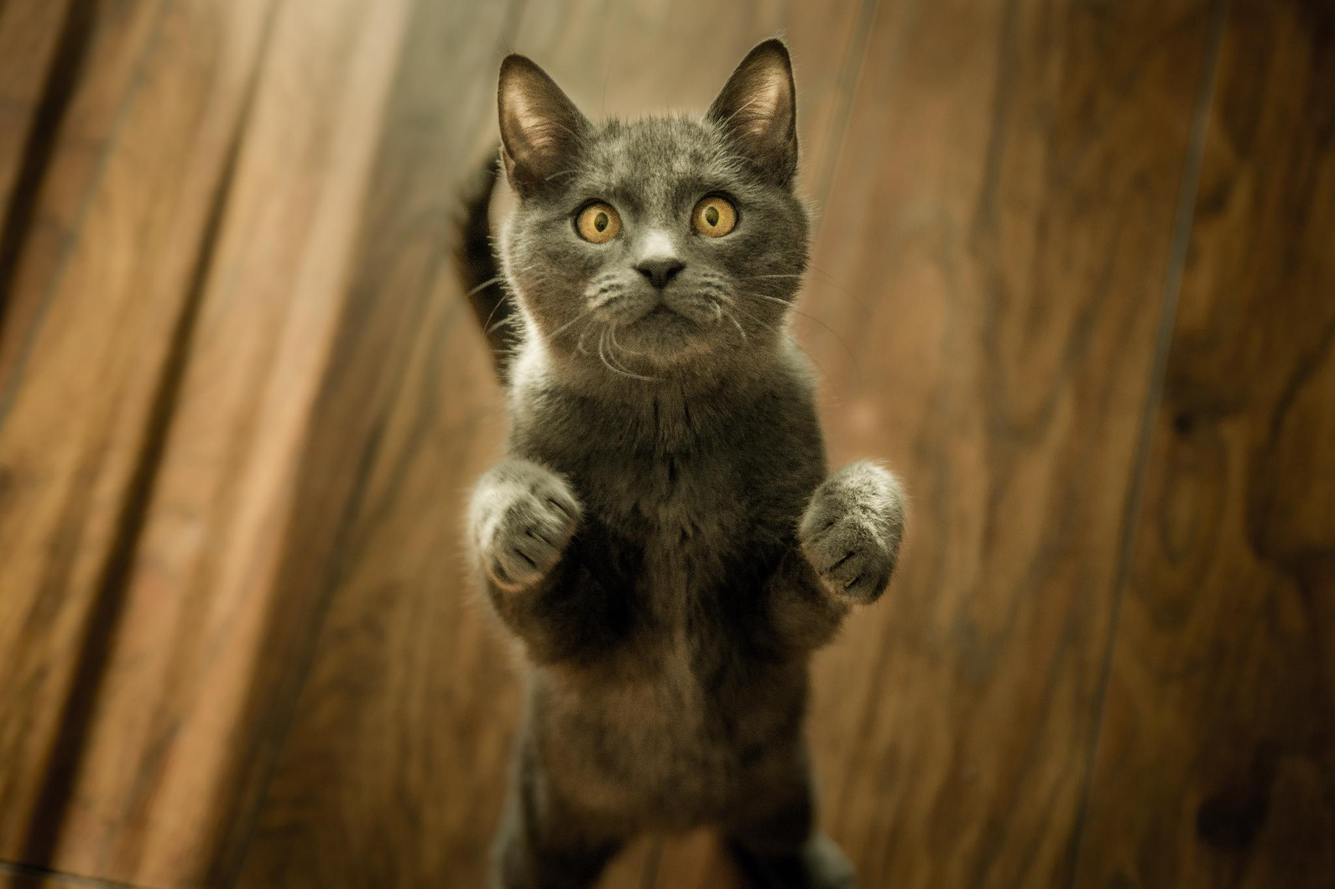cat: (458, 35, 907, 887)
